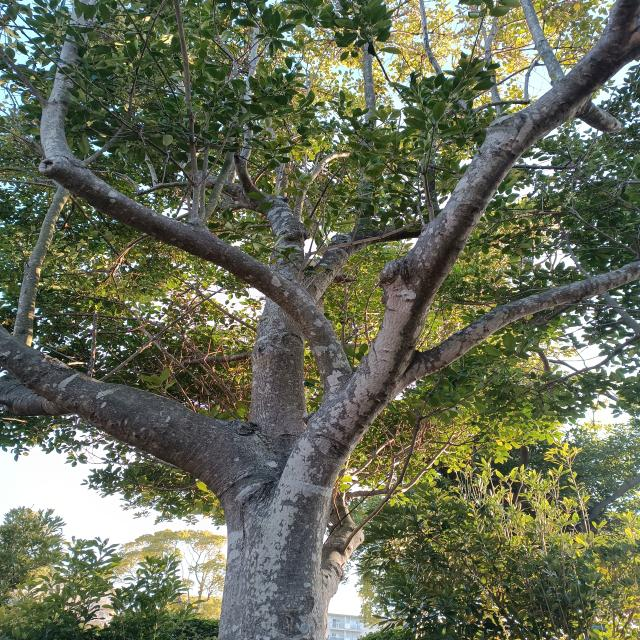Branch: (272, 2, 638, 516), (37, 0, 352, 397), (2, 329, 256, 513), (405, 260, 640, 387), (234, 14, 264, 196), (203, 135, 237, 221), (135, 182, 187, 196)
Twig: (0, 6, 193, 186), (16, 186, 69, 346), (173, 0, 202, 222), (293, 152, 354, 222), (520, 0, 563, 86), (420, 0, 444, 76), (422, 101, 435, 224), (92, 170, 139, 191)
